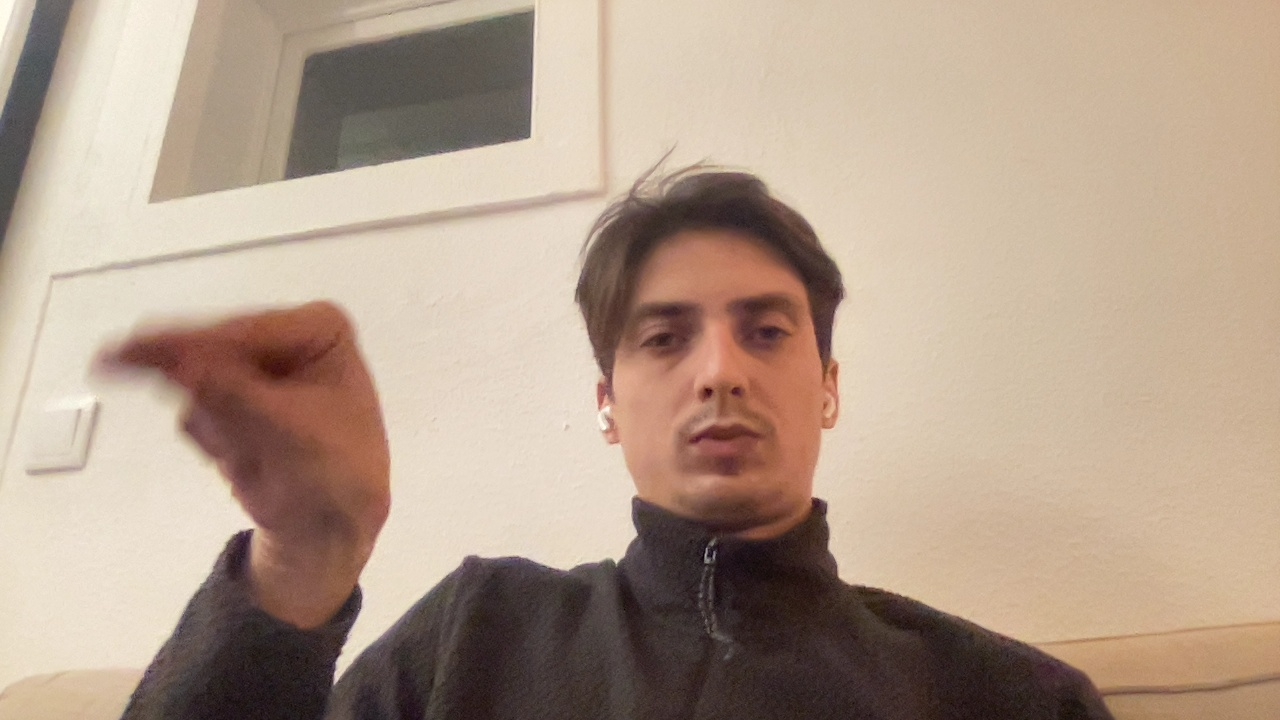no: (88, 280, 430, 554)
